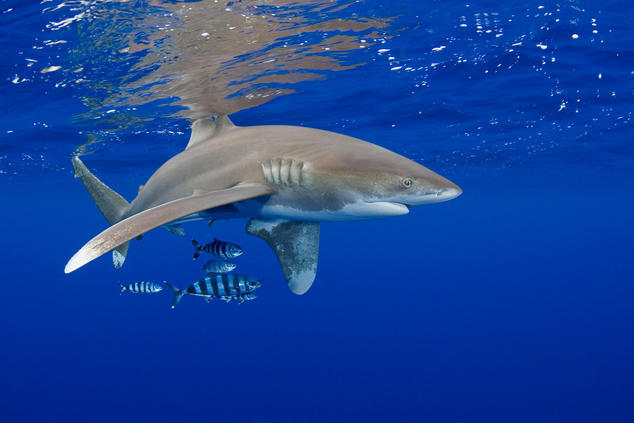shark: (61, 108, 477, 294)
